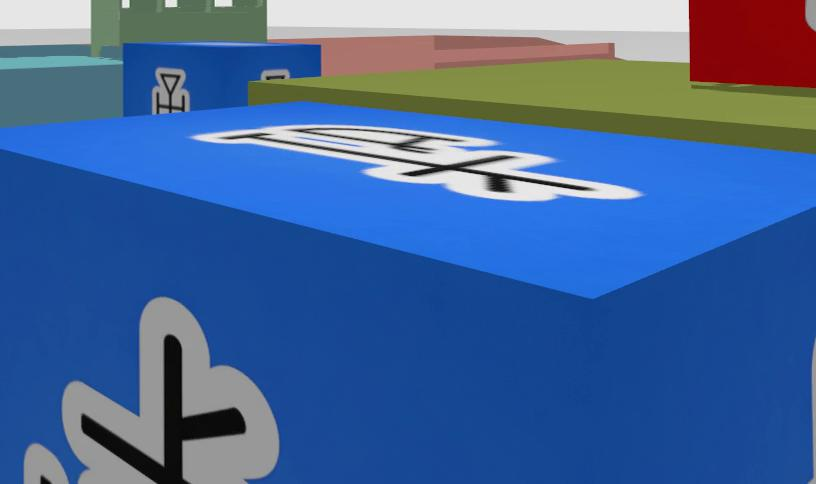KFS_REAL: (0, 88, 815, 483), (61, 297, 280, 483), (194, 125, 641, 200), (122, 42, 321, 116), (152, 67, 189, 114), (260, 69, 290, 80)
